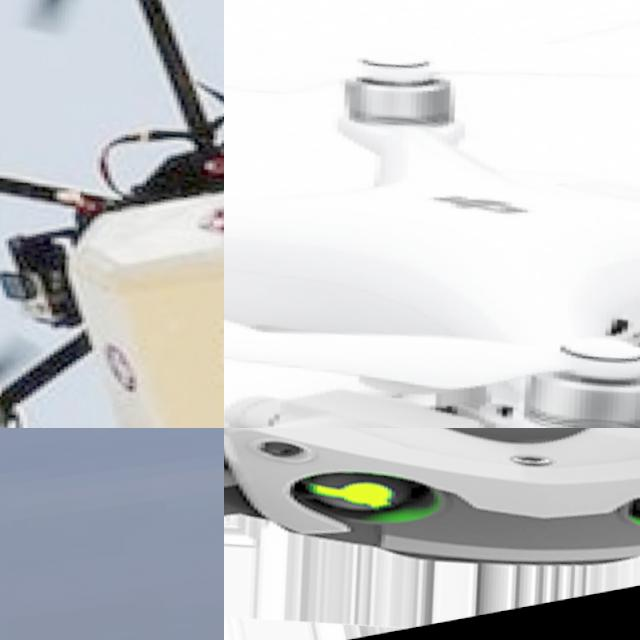drone: (224, 0, 640, 428), (0, 0, 224, 428), (224, 428, 640, 640)
